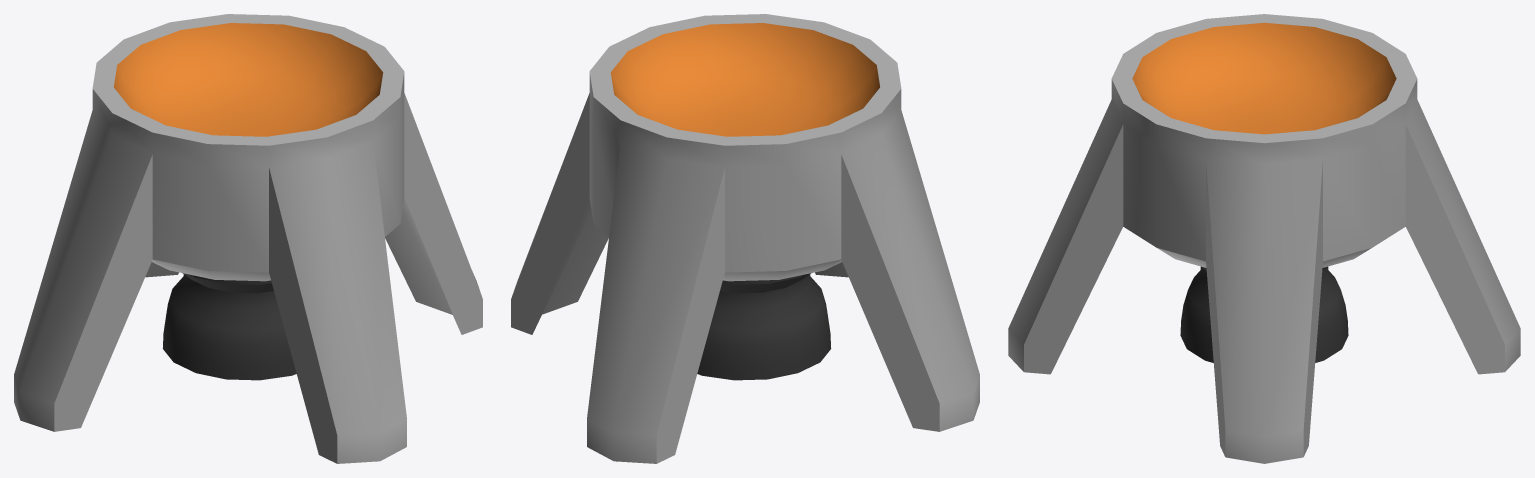
Rendered from Rocket Thruster.fbx.
3 renders of one model, left to right at view 1: azimuth 30°, elevation 25°; view 2: azimuth 150°, elevation 25°; view 3: azimuth 270°, elevation 25°, orthographic. The views are drawn at different scales.
Parts seen in each view (by area): view 1: Rocket Thruster; view 2: Rocket Thruster; view 3: Rocket Thruster.
Boxes of the visible parts, x1=… form: Rocket Thruster: x1=14, y1=14, x2=482, y2=463; Rocket Thruster: x1=511, y1=14, x2=979, y2=463; Rocket Thruster: x1=1008, y1=14, x2=1520, y2=463.
Size of the model in its own units: 3.35 by 2 by 3.35.
